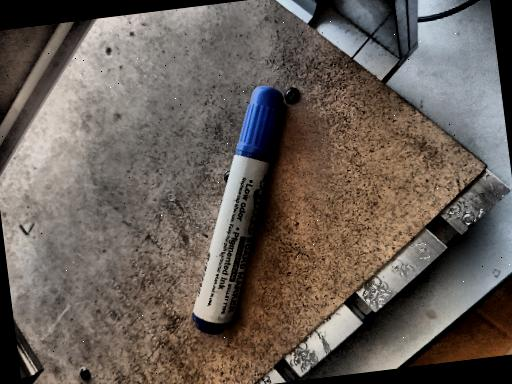marcador azul: (193, 86, 283, 334)
